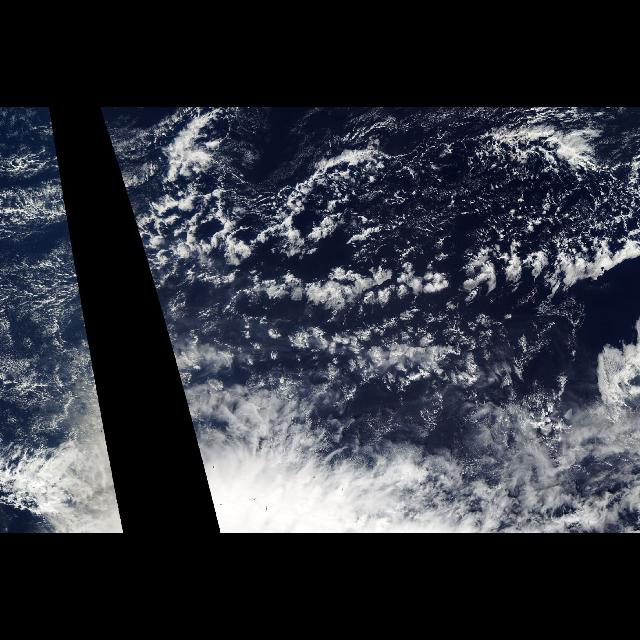Fish: (204, 186, 630, 334)
Gravel: (168, 137, 640, 351)
